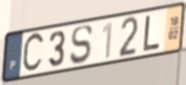1: (102, 20, 113, 60)
2: (118, 15, 140, 59)
3: (47, 29, 68, 68)
C: (21, 30, 46, 77)
L: (142, 14, 161, 53)
S: (69, 23, 94, 66)
